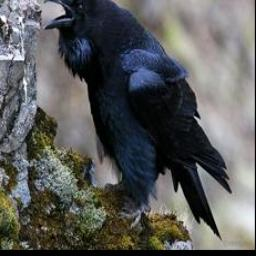Crow: (42, 0, 232, 243)
